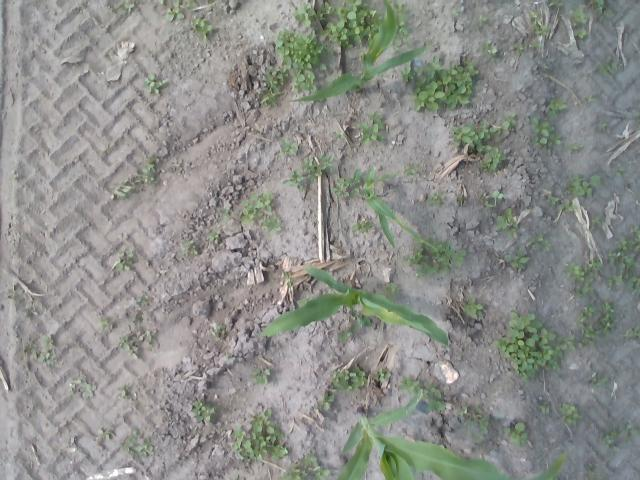Maize: (336, 392, 567, 480), (260, 268, 450, 346), (286, 0, 430, 100), (363, 168, 438, 252)
Weeds: (493, 312, 560, 382), (414, 64, 479, 112), (232, 410, 288, 462), (323, 2, 381, 48), (275, 27, 333, 70), (476, 140, 506, 172), (565, 174, 601, 197), (419, 238, 450, 260), (290, 69, 316, 94), (534, 126, 562, 146), (240, 202, 263, 226), (492, 207, 516, 230), (192, 399, 215, 423), (503, 422, 526, 446), (292, 4, 314, 28), (558, 402, 582, 424), (452, 125, 478, 145), (251, 190, 274, 212), (144, 74, 168, 95), (258, 88, 284, 106), (564, 262, 586, 283), (572, 277, 595, 297), (332, 368, 352, 391), (504, 250, 529, 268), (278, 465, 308, 480), (580, 322, 598, 346), (352, 363, 368, 390), (532, 116, 552, 136), (464, 298, 484, 318), (278, 138, 298, 156), (425, 54, 440, 78), (415, 261, 439, 276), (135, 436, 153, 456), (251, 368, 271, 386), (361, 123, 378, 144), (282, 170, 304, 186), (398, 376, 420, 392), (261, 215, 282, 231), (532, 234, 552, 250), (446, 250, 466, 266), (382, 283, 402, 299), (349, 222, 375, 234), (196, 24, 214, 41), (392, 2, 410, 19), (408, 245, 424, 264), (600, 315, 616, 334), (572, 6, 587, 26), (424, 384, 444, 399), (557, 198, 578, 212), (429, 191, 447, 207), (298, 454, 318, 468), (620, 255, 632, 278), (478, 118, 491, 139), (334, 180, 351, 196), (374, 368, 392, 383), (79, 380, 94, 398), (601, 430, 616, 448), (561, 333, 575, 352), (501, 114, 517, 130), (584, 258, 600, 274), (402, 164, 425, 175), (142, 156, 156, 174), (427, 399, 445, 413), (174, 0, 198, 10), (112, 184, 132, 196), (99, 316, 114, 332), (620, 424, 640, 436), (168, 8, 185, 22), (264, 70, 278, 87), (317, 155, 334, 169), (609, 250, 624, 265), (118, 334, 132, 350), (368, 112, 382, 128), (278, 66, 290, 84), (348, 169, 362, 184), (312, 469, 330, 480), (98, 428, 116, 439), (400, 68, 414, 82), (590, 216, 604, 230), (550, 102, 566, 114), (216, 322, 227, 339), (116, 260, 133, 271), (565, 144, 583, 154), (208, 229, 220, 244), (478, 416, 488, 434), (630, 225, 640, 242), (358, 316, 372, 328), (322, 4, 336, 16), (129, 346, 140, 361), (137, 331, 153, 341), (191, 16, 204, 28), (600, 302, 613, 314), (302, 156, 314, 169), (529, 10, 541, 22), (536, 23, 548, 35), (613, 164, 625, 176), (138, 295, 150, 307), (310, 168, 322, 180), (396, 22, 407, 34), (616, 237, 628, 248), (323, 392, 334, 404), (122, 437, 134, 448), (42, 336, 53, 348), (628, 242, 640, 253), (22, 308, 38, 316), (489, 124, 501, 134), (574, 28, 586, 38), (633, 278, 640, 295), (332, 132, 346, 140), (548, 0, 562, 8), (546, 196, 560, 204), (607, 62, 618, 72), (120, 385, 130, 396), (124, 4, 136, 13), (220, 208, 229, 220), (599, 64, 608, 76), (596, 377, 608, 386), (38, 352, 51, 360), (488, 48, 498, 58), (532, 40, 542, 50), (598, 122, 608, 132), (134, 314, 144, 324), (124, 448, 134, 458), (540, 404, 550, 414), (629, 327, 640, 336), (627, 276, 636, 287), (442, 262, 450, 274), (584, 305, 596, 313), (24, 344, 36, 352), (583, 462, 595, 470), (144, 174, 154, 183), (338, 332, 349, 340), (614, 274, 622, 285), (463, 418, 475, 425), (316, 10, 324, 20), (596, 0, 604, 10), (632, 108, 640, 118), (510, 228, 518, 238), (47, 358, 57, 366), (587, 470, 595, 480), (348, 325, 356, 334), (479, 16, 487, 25), (128, 246, 134, 258), (190, 246, 198, 255), (473, 404, 482, 412), (604, 10, 614, 17), (575, 313, 585, 320), (474, 435, 484, 442), (483, 202, 494, 208), (458, 193, 464, 204), (350, 309, 358, 317), (481, 40, 489, 48), (494, 190, 502, 198), (316, 402, 324, 410), (132, 428, 140, 436), (129, 392, 137, 400), (482, 192, 491, 199), (517, 44, 523, 54), (69, 382, 75, 392), (394, 44, 401, 52), (182, 241, 190, 248), (586, 96, 595, 102), (286, 281, 293, 288), (606, 280, 614, 286), (232, 474, 240, 480), (612, 444, 620, 450), (597, 474, 605, 480), (460, 409, 468, 415), (324, 403, 330, 410), (179, 249, 186, 255), (284, 272, 290, 278), (12, 172, 18, 178), (298, 184, 304, 190), (74, 378, 80, 384), (118, 252, 124, 258), (378, 136, 384, 142), (158, 0, 165, 5), (453, 12, 459, 16), (226, 353, 231, 357), (208, 1, 214, 4)
